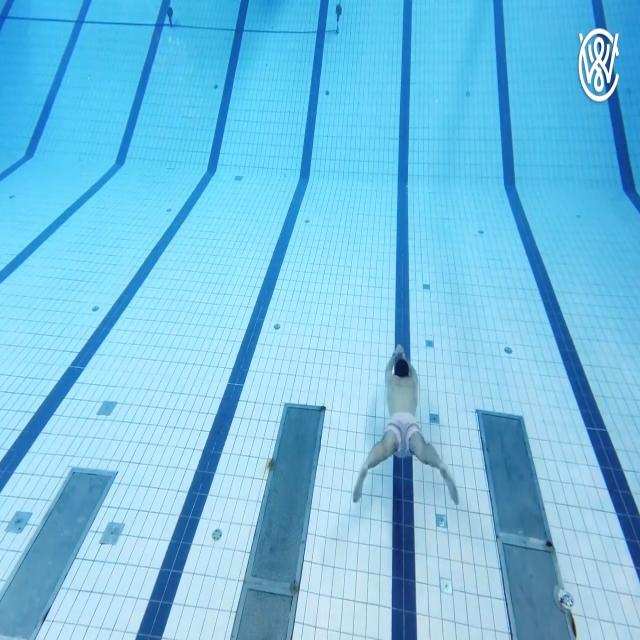Swimming: (352, 342, 461, 509)
